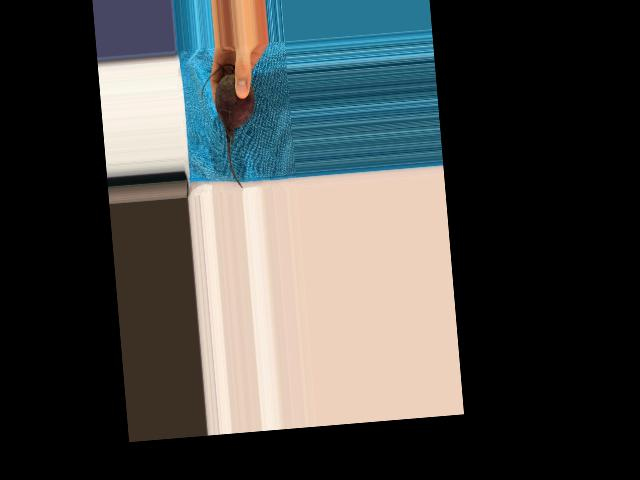beet: (199, 62, 262, 191)
